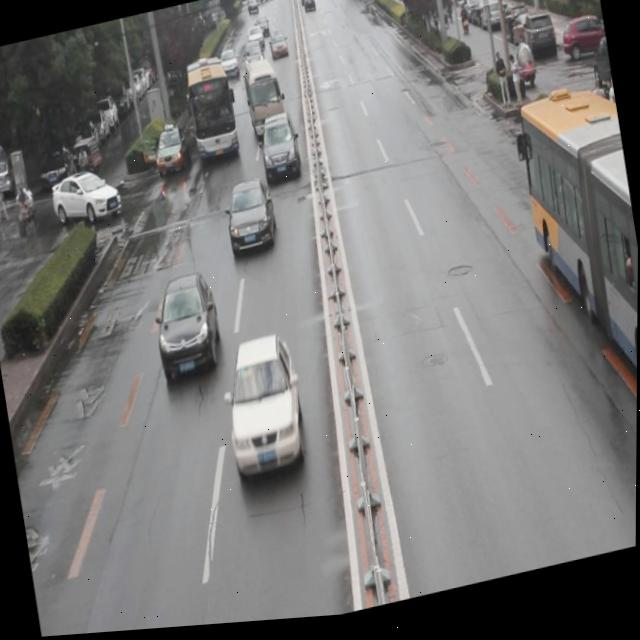car: (216, 332, 311, 490), (149, 273, 223, 382), (50, 166, 126, 234), (221, 181, 280, 262), (257, 115, 301, 188), (153, 135, 194, 193)
truck: (242, 59, 289, 145)
van: (508, 96, 639, 456), (185, 56, 242, 169)
